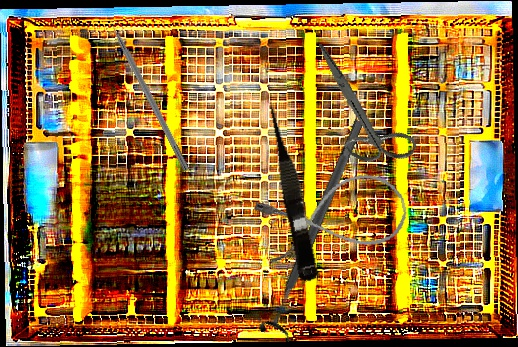Cannula: (252, 167, 413, 268)
Fixation Ring: (255, 114, 377, 343)
Hook Surgical: (103, 10, 192, 172)
Iris Scissors: (282, 43, 439, 179)
Micro Scissor: (260, 93, 324, 284)
